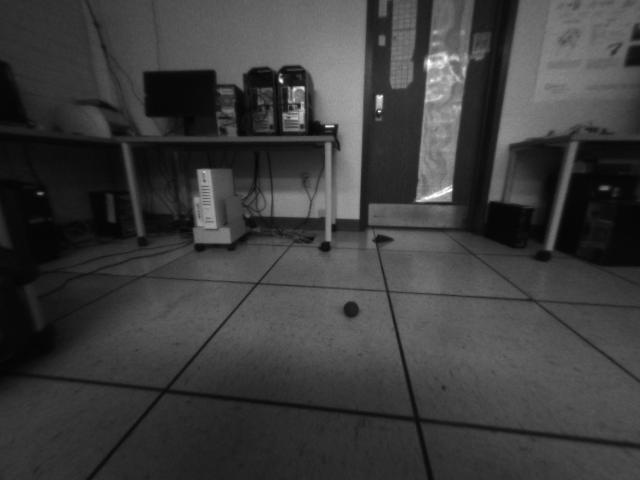dogtoy: (338, 294, 366, 322)
